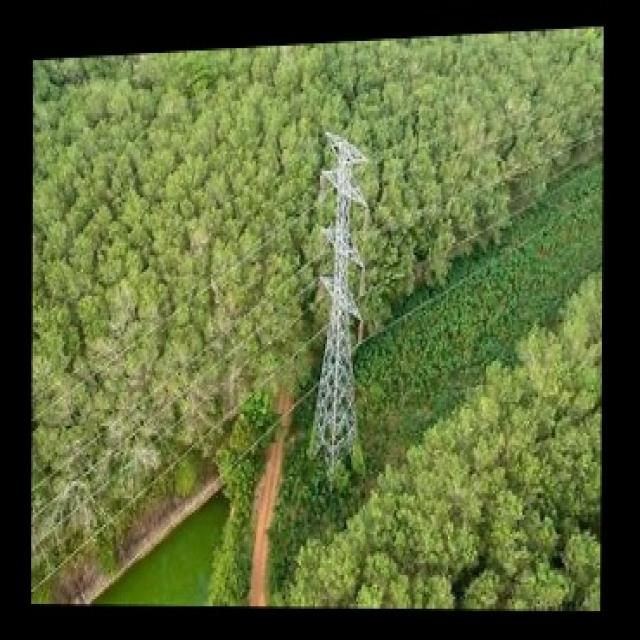utility poles: (304, 125, 379, 498)
